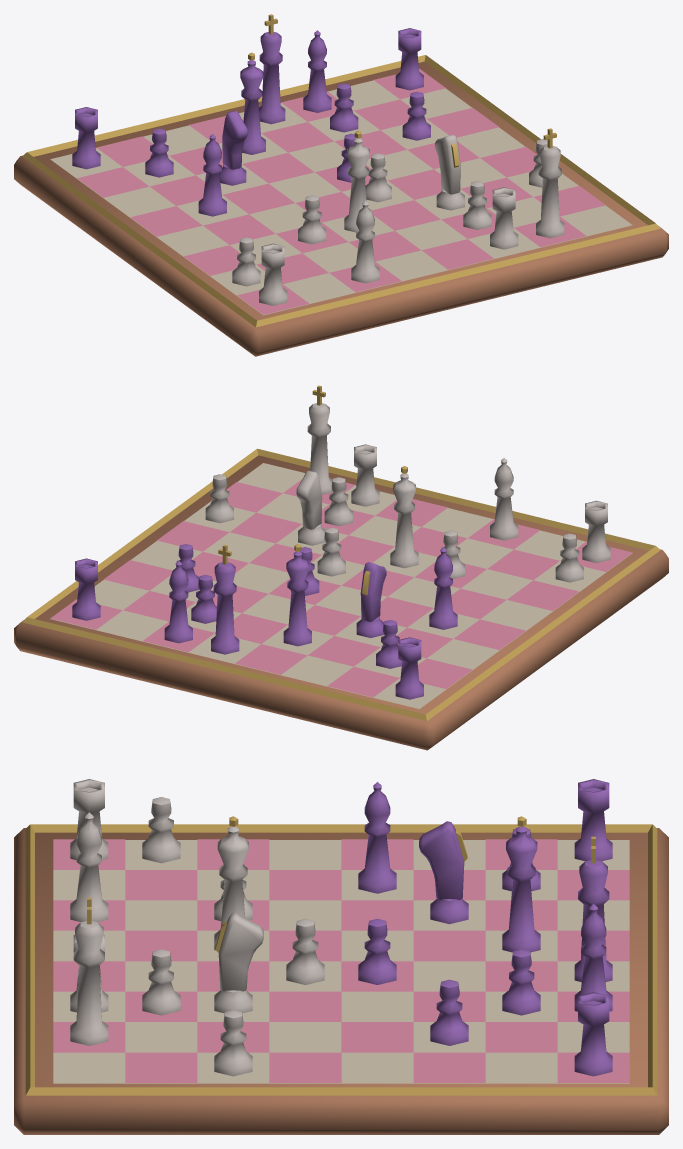
File: chess_set.glb
The picture shows the model from 3 angles, top to bottom: view 1: azimuth 30°, elevation 25°; view 2: azimuth 150°, elevation 25°; view 3: azimuth 270°, elevation 25°; orthographic projection. The views are drawn at different scales.
Parts seen in each view (by area): view 1: chess_set; view 2: chess_set; view 3: chess_set.
Boxes of the visible parts, x1=… form: chess_set: x1=14, y1=14, x2=668, y2=356; chess_set: x1=14, y1=385, x2=668, y2=750; chess_set: x1=14, y1=779, x2=668, y2=1134.
Size of what is drawn, in the model's own units: 0.4 by 0.12 by 0.4.
